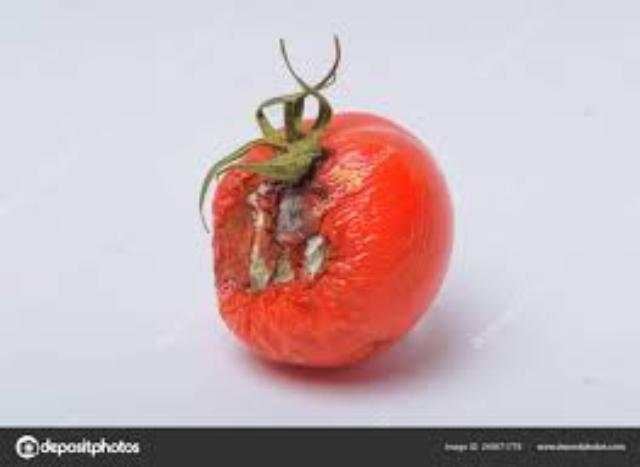defect: (197, 35, 460, 374)
